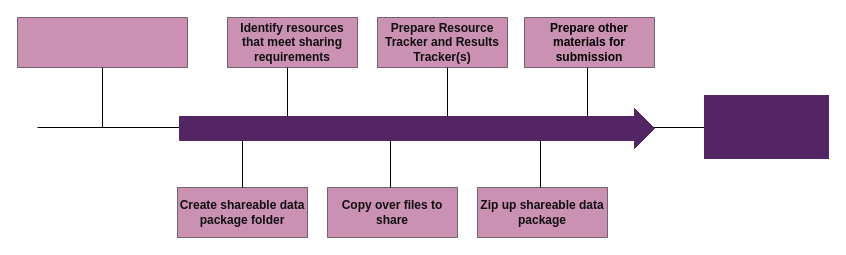
Some shapes in this 846 by 255 pixel diagram are drawn without their labels. Each missing label, with the centre of its shape:
"Create Managed-Access by Date Shareable Data Package" belongs at [416,128].
"Decide what type of shareable data package(s) you will submit" belongs at [102,42].
"Upload Shareable Data Package to Repository" belongs at [766,126].
